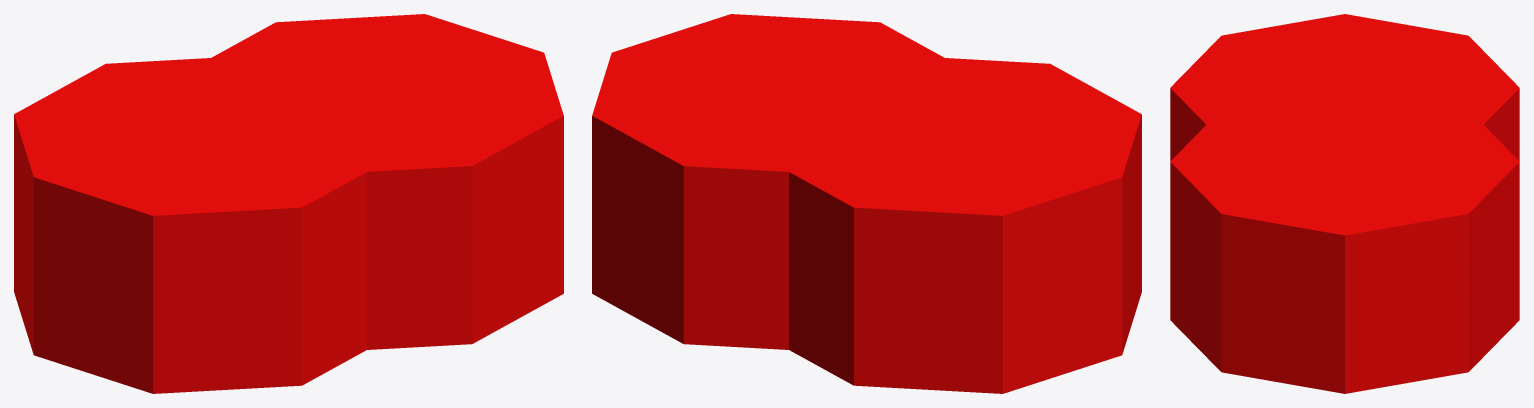
File: serial_test_example_fn_std-solid-appearance10_output.gltf
3 renders of one model, left to right at view 1: azimuth 30°, elevation 25°; view 2: azimuth 150°, elevation 25°; view 3: azimuth 270°, elevation 25°, orthographic. The views are drawn at different scales.
Bounding box in the file's own units: 0.003 × 0.001 × 0.002.
